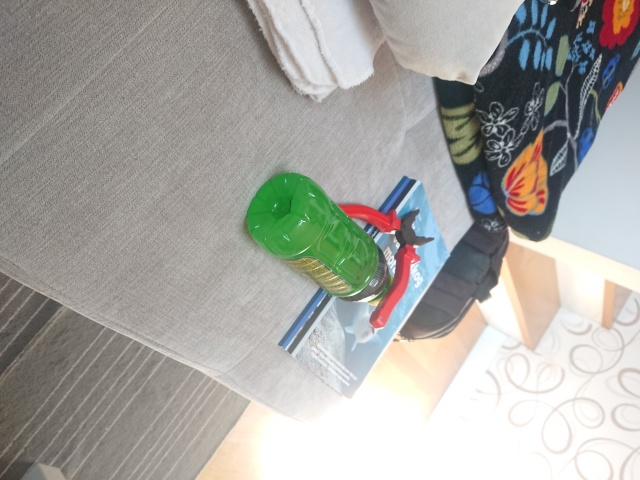Vindi Iso Sport Lemon-Grapefruit 500mL: (242, 170, 405, 310)
